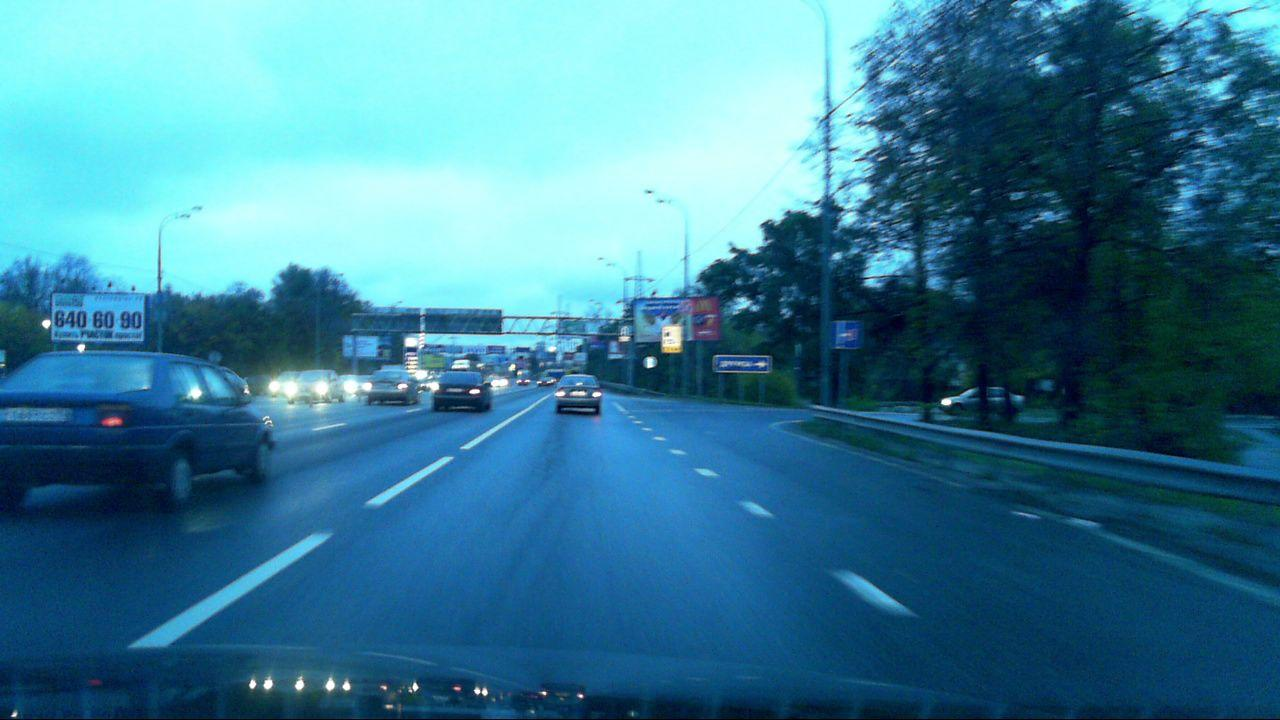4_1_1: (644, 354, 657, 371)
5_15_5: (619, 324, 632, 337)
6_10_1: (715, 353, 773, 375)
6_8_2: (829, 321, 862, 349)
